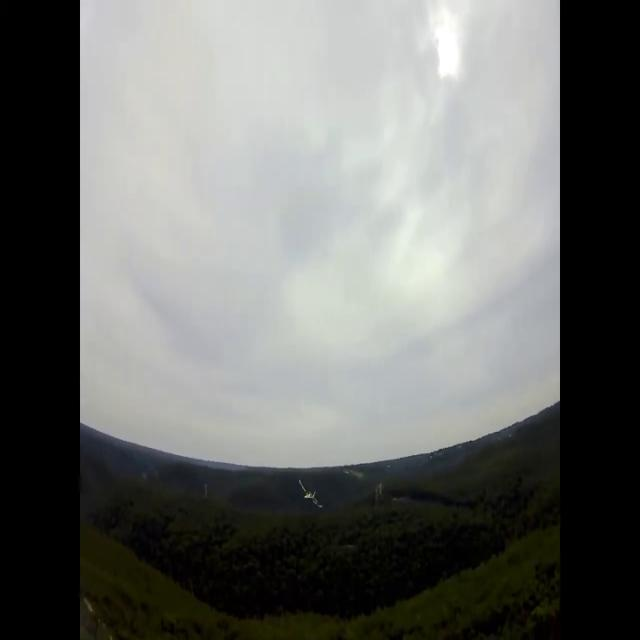iha: (298, 480, 322, 509)
